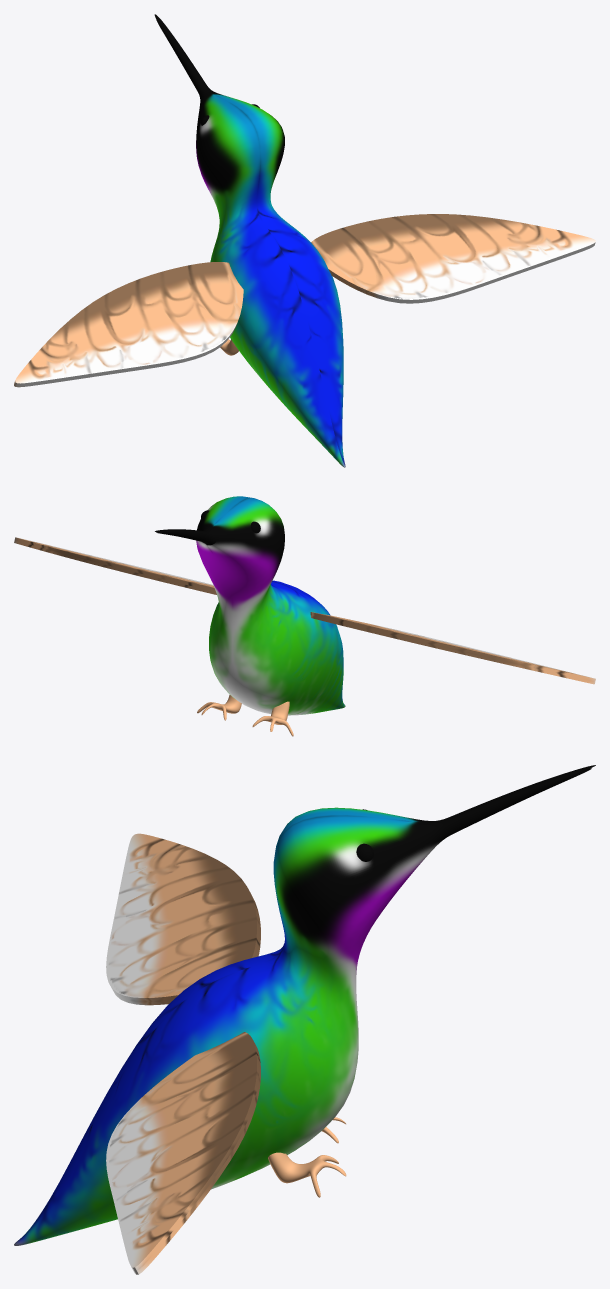
Rendered from ColibriMulsant.fbx.
The picture shows the model from 3 angles, top to bottom: view 1: azimuth 30°, elevation 25°; view 2: azimuth 150°, elevation 25°; view 3: azimuth 270°, elevation 25°; orthographic projection. The views are drawn at different scales.
Parts seen in each view (by area): view 1: Body; view 2: Body; view 3: Body.
Part boxes in pixels (x1=…): Body: x1=14, y1=14, x2=595, y2=467; Body: x1=14, y1=496, x2=595, y2=736; Body: x1=14, y1=765, x2=595, y2=1274.
Size of the model in its own units: 1160 by 601 by 659.
1 material, 1 textured.
